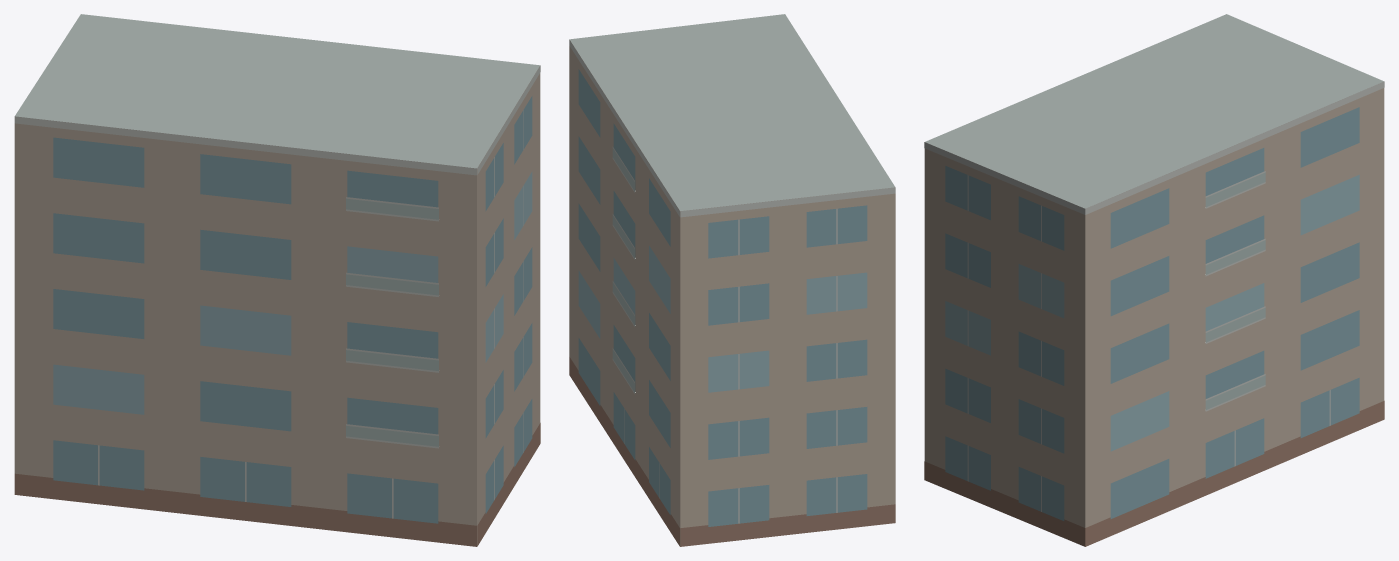
File: survey-upis-32886733.glb
3 renders of one model, left to right at view 1: azimuth 30°, elevation 25°; view 2: azimuth 150°, elevation 25°; view 3: azimuth 270°, elevation 25°, orthographic. The views are drawn at different scales.
Visible parts, largest first — view 1: survey-upis-32886733.tmp; view 2: survey-upis-32886733.tmp; view 3: survey-upis-32886733.tmp.
Part boxes in pixels (box(x1,y1,x2,y2)): survey-upis-32886733.tmp: box(14, 14, 540, 546); survey-upis-32886733.tmp: box(569, 14, 895, 546); survey-upis-32886733.tmp: box(924, 14, 1384, 546).
Size of the model in its own units: 16.19 by 13.1 by 16.15.
